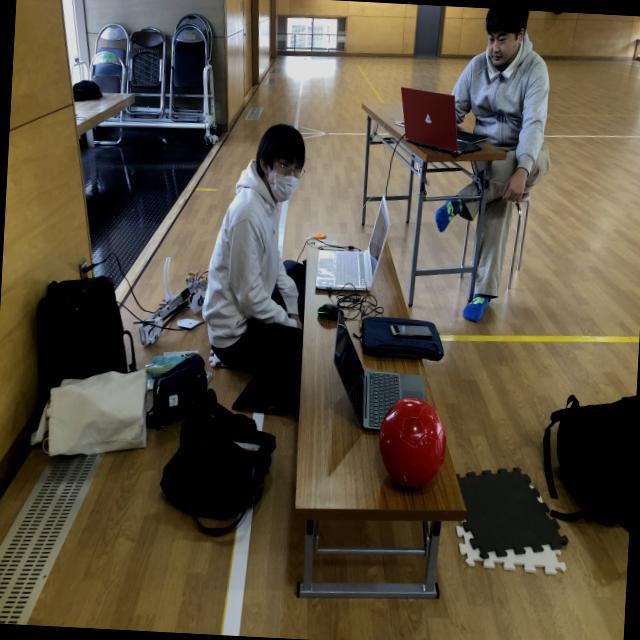red_ball: (377, 396, 448, 494)
